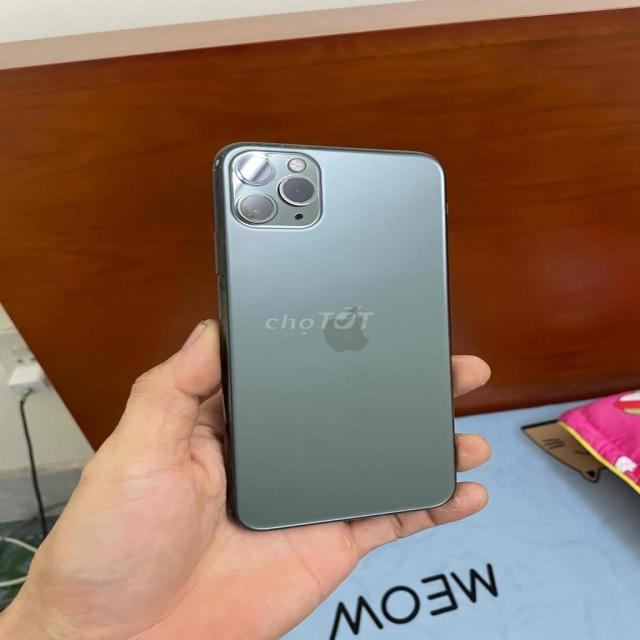gen_11: (193, 127, 478, 528)
